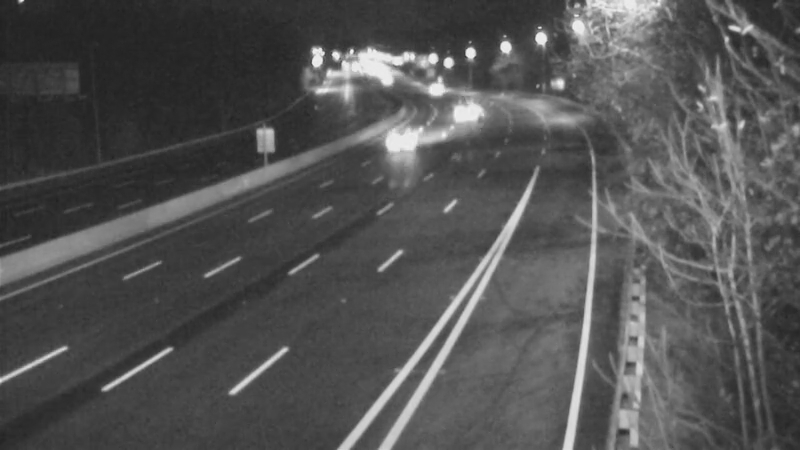vehicle: (408, 61, 458, 111), (436, 83, 486, 133), (385, 114, 435, 164)
